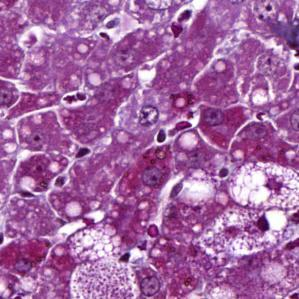ballooning: (199, 208, 290, 259), (226, 159, 297, 212)
